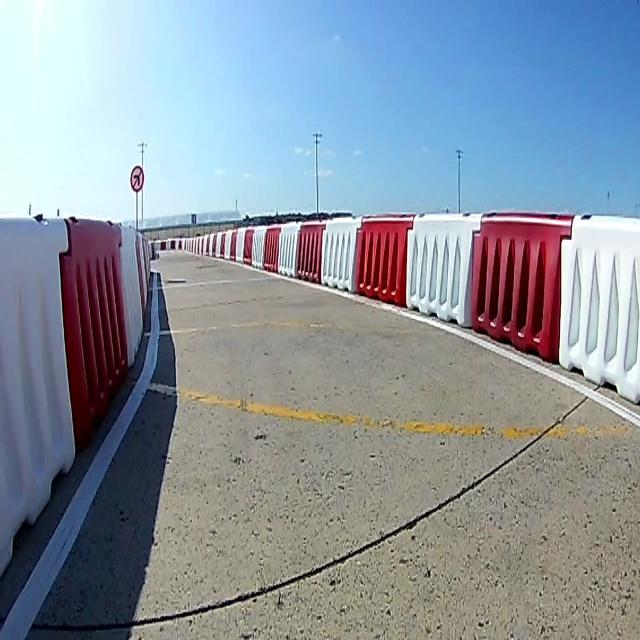soladonulmez: (130, 163, 144, 193)
